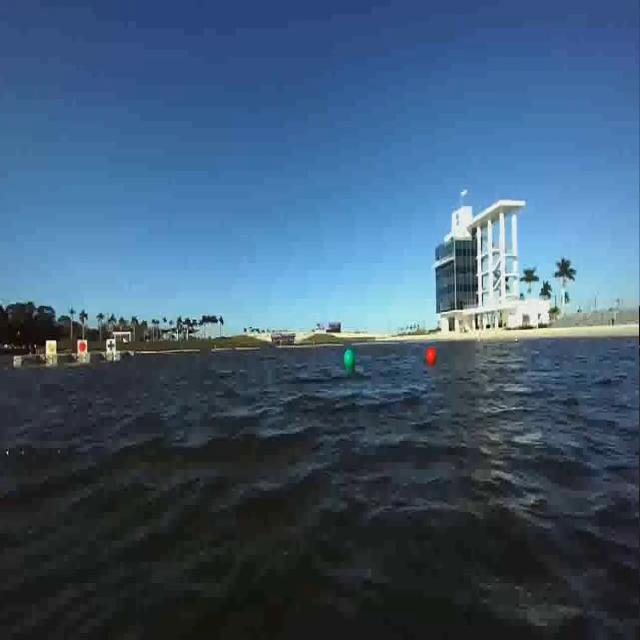green-buoy: (344, 348, 357, 371)
red-buoy: (426, 348, 436, 363)
